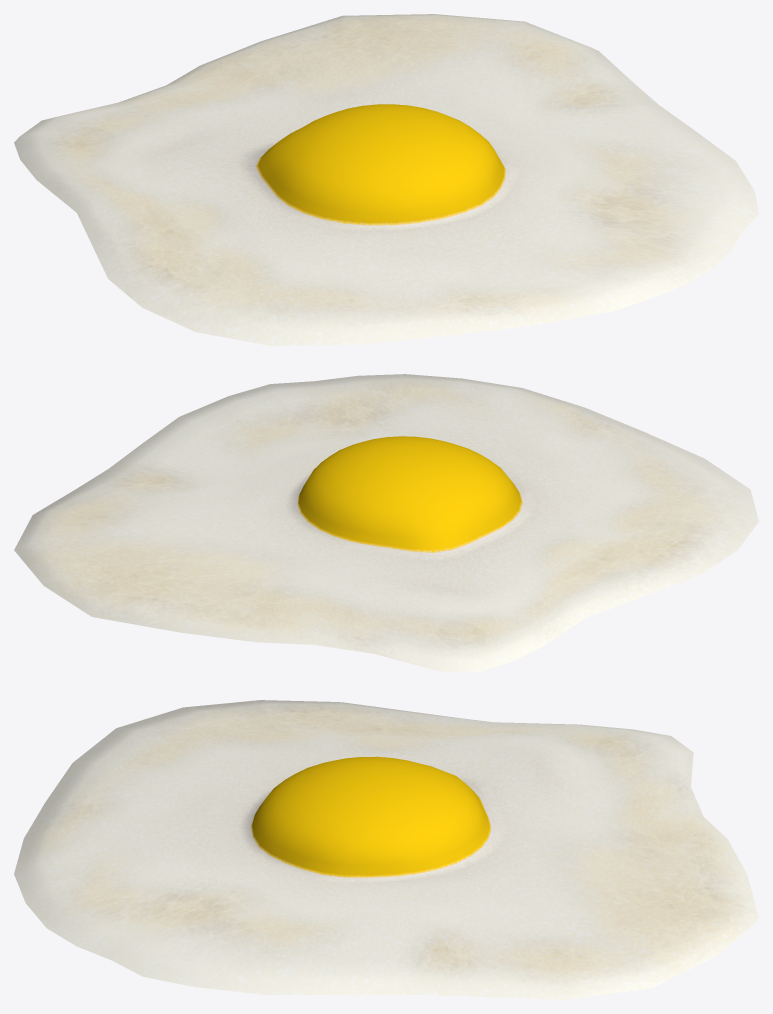
Rendered from Egg_Cracked_25.obj.
3 renders of one model, top to bottom at view 1: azimuth 30°, elevation 25°; view 2: azimuth 150°, elevation 25°; view 3: azimuth 270°, elevation 25°, orthographic. The views are drawn at different scales.
Parts seen in each view (by area): view 1: fried_egg_24; view 2: fried_egg_24; view 3: fried_egg_24.
Boxes of the visible parts, x1,y1,x2,y2 form: fried_egg_24: (14, 14, 758, 345); fried_egg_24: (14, 374, 758, 671); fried_egg_24: (14, 700, 758, 999).
Bounding box in the file's own units: 0.1054 × 0.0118 × 0.1107.
